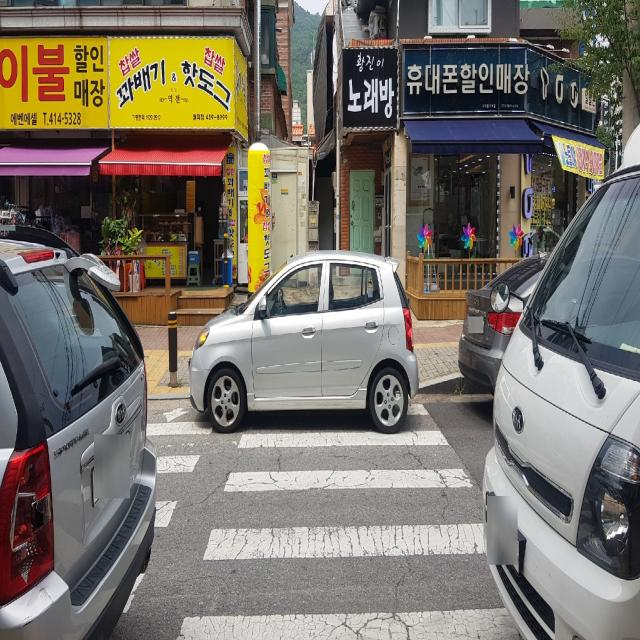횡단보도: (119, 396, 526, 640)
